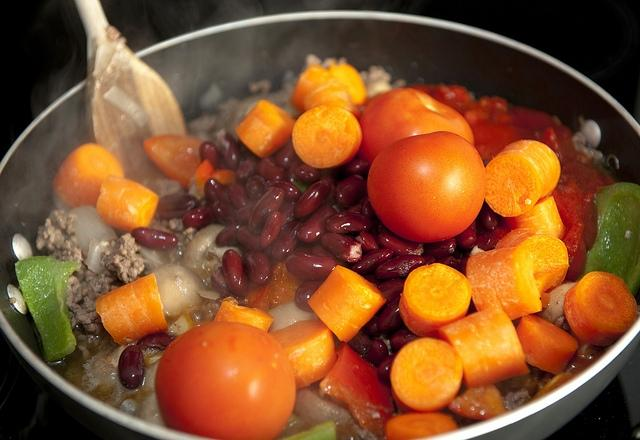carrot: (438, 306, 531, 390), (307, 265, 387, 343), (484, 139, 562, 218), (390, 337, 464, 413), (467, 246, 542, 320), (564, 271, 638, 346), (94, 273, 170, 346), (399, 263, 472, 338), (53, 142, 125, 208), (495, 228, 570, 290), (268, 319, 336, 387), (292, 105, 362, 168), (516, 314, 578, 376), (234, 100, 296, 158), (96, 175, 159, 232), (144, 134, 202, 190), (503, 195, 565, 238), (288, 64, 334, 113), (302, 84, 362, 121), (384, 412, 459, 440), (212, 301, 274, 333), (330, 60, 368, 106)
tomato: (154, 321, 296, 440), (367, 132, 486, 242), (357, 88, 475, 176)
